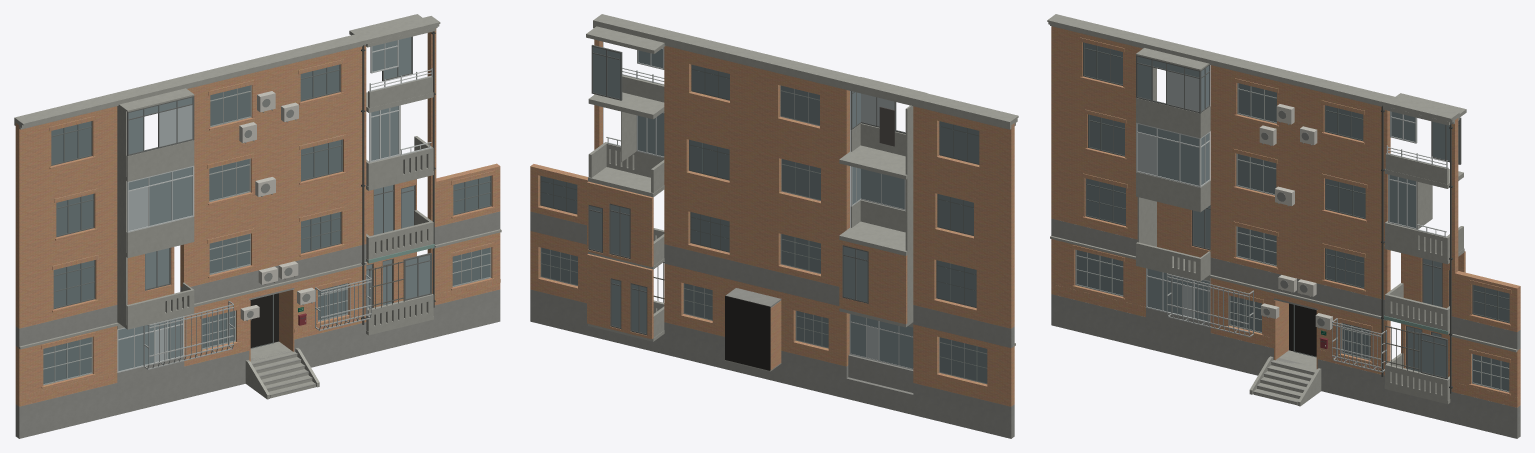
File: lod-source.glb
3 views of the same model, side by side, from view 1: azimuth 30°, elevation 25°; view 2: azimuth 150°, elevation 25°; view 3: azimuth 330°, elevation 25° (orthographic). The views are drawn at different scales.
Parts seen in each view (by area): view 1: 淮海中路后排1230号入口与叠层阳台; view 2: 淮海中路后排1230号入口与叠层阳台; view 3: 淮海中路后排1230号入口与叠层阳台.
Part boxes in pixels (left/top/right/bottom): 淮海中路后排1230号入口与叠层阳台: left=14, top=14, right=501, bottom=438; 淮海中路后排1230号入口与叠层阳台: left=530, top=14, right=1018, bottom=438; 淮海中路后排1230号入口与叠层阳台: left=1047, top=14, right=1520, bottom=438.
Bounding box in the file's own units: 20.91 × 13.2 × 2.83.
24 materials, 4 textured.
